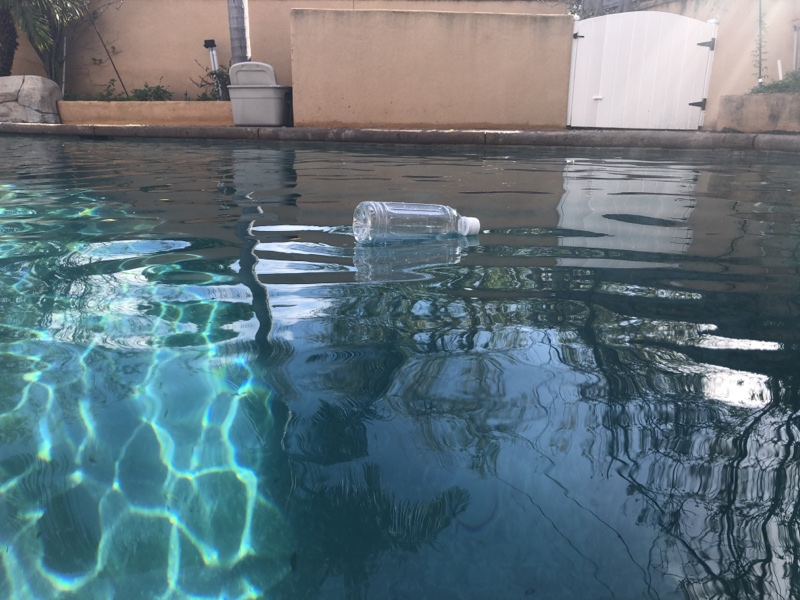Plastic Bottle: (351, 199, 482, 245)
